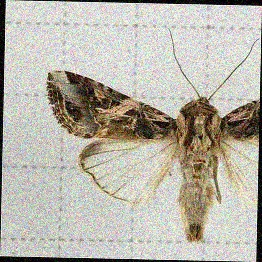Spodoptera litura: (44, 27, 259, 242)
